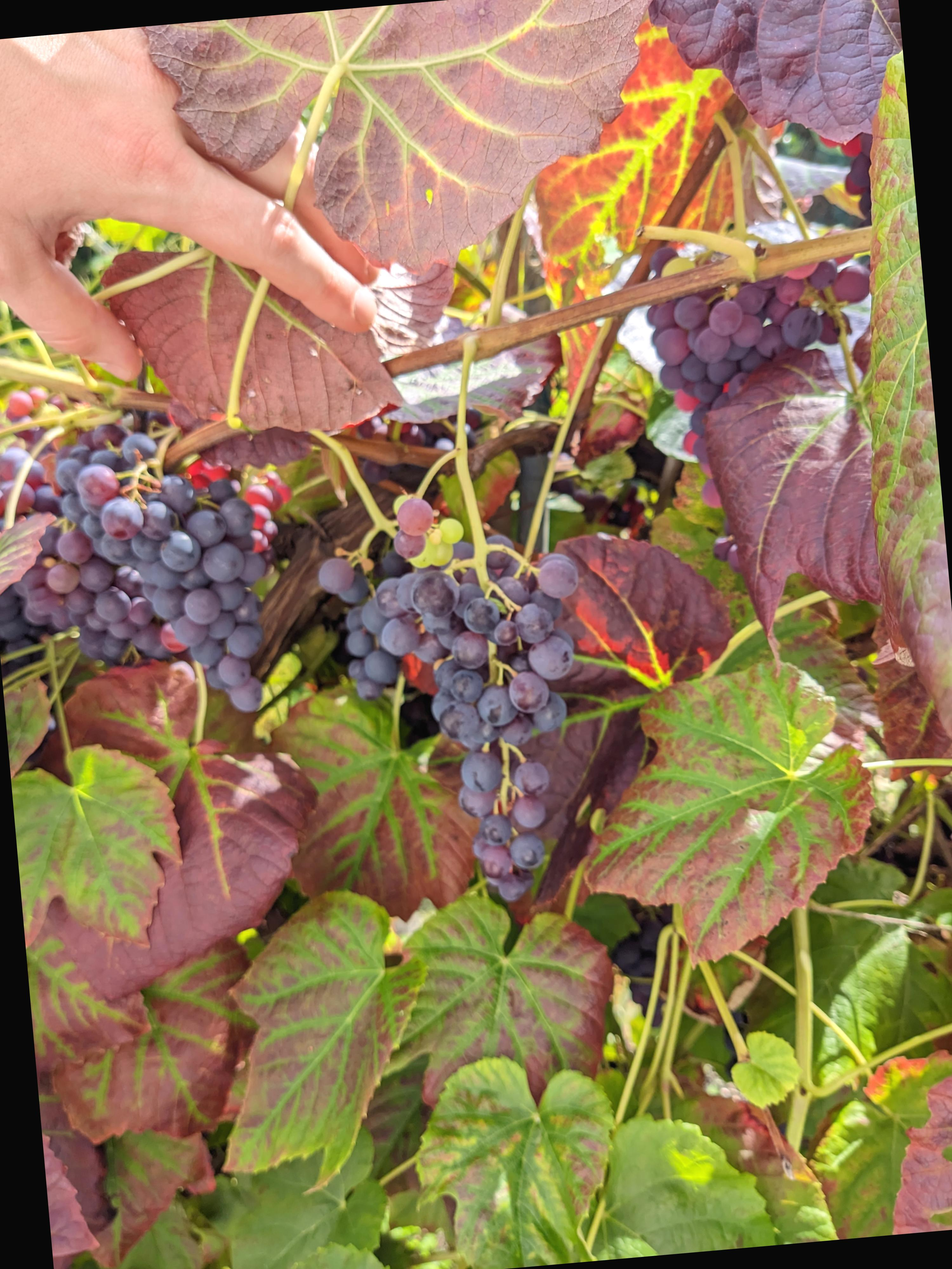Grape Ripe: (261, 521, 555, 959), (589, 267, 841, 553), (21, 461, 247, 772), (0, 420, 90, 703), (302, 436, 421, 533), (767, 169, 827, 279)
